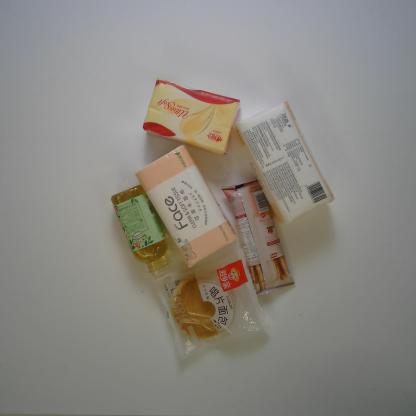Dessert: (153, 256, 271, 360), (218, 175, 297, 297)
Drink: (109, 184, 177, 285)
Tissue: (132, 140, 237, 272), (233, 99, 336, 227), (142, 78, 246, 160)
